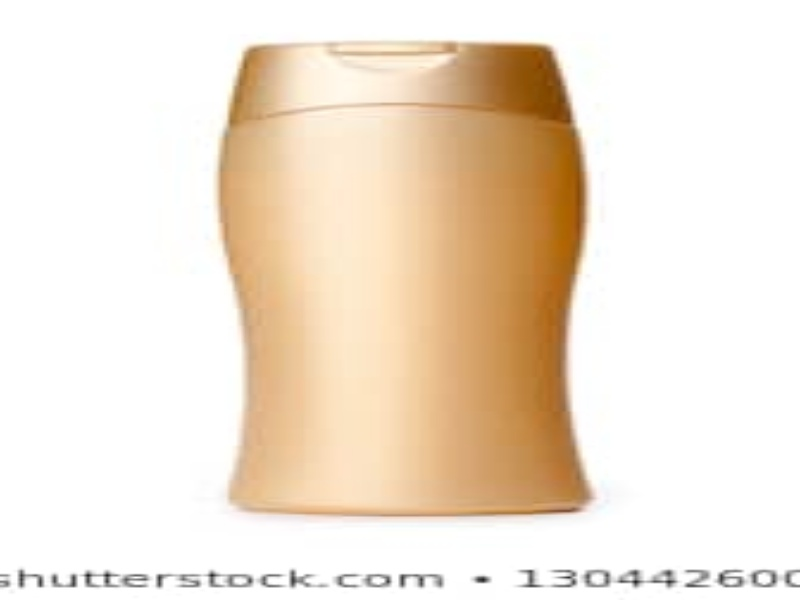shampoo-bottle: (215, 37, 599, 515)
